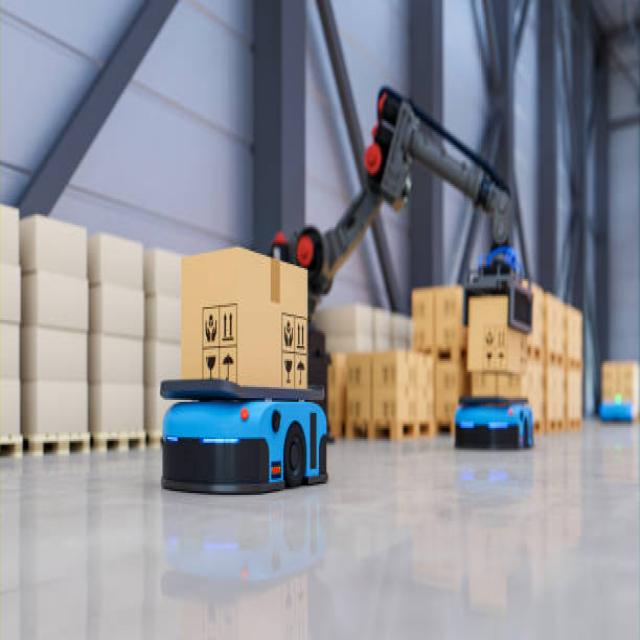Robotic-arm: (294, 79, 518, 317)
